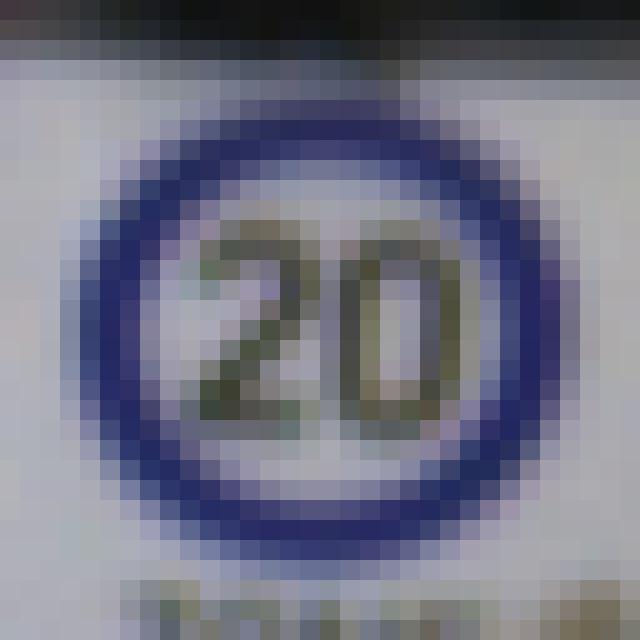SPEED LIMIT 20: (66, 95, 578, 572)
